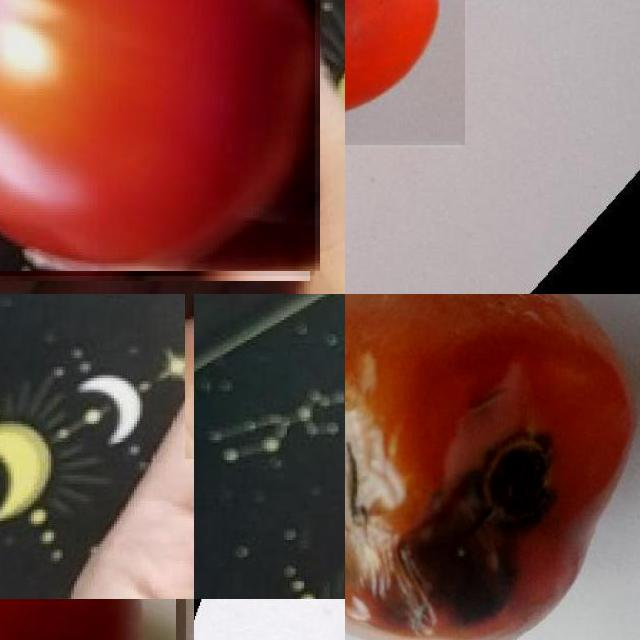0: (345, 0, 464, 144)
Fresh Tomato: (0, 0, 315, 276)
Rotten Tomato: (345, 294, 640, 640)
